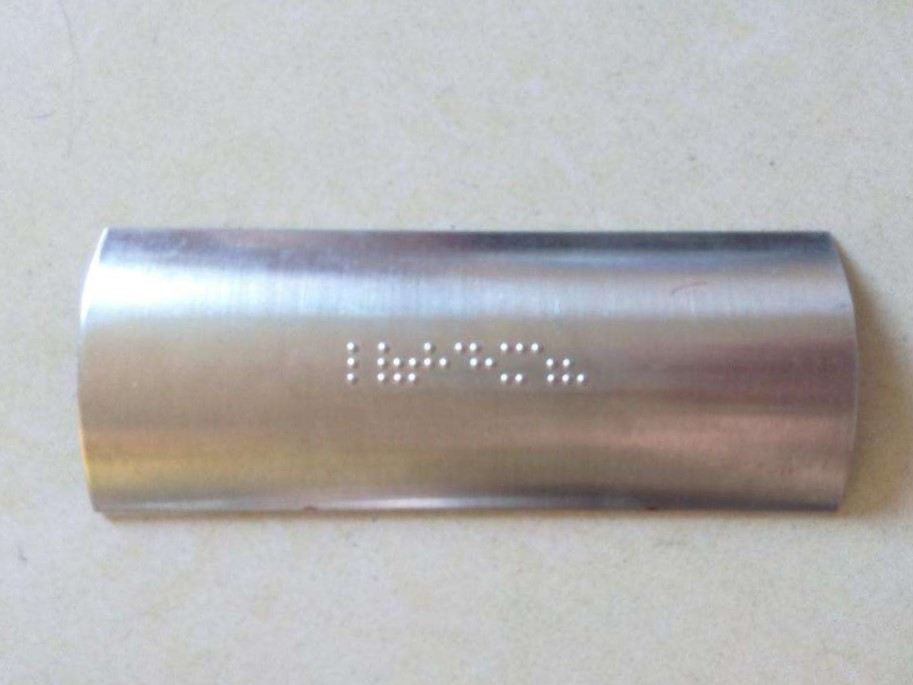Braille: (407, 341, 436, 385), (467, 341, 496, 385), (530, 342, 559, 386), (560, 342, 589, 386), (345, 340, 373, 384), (499, 342, 527, 386), (377, 342, 405, 385), (439, 341, 465, 385)
